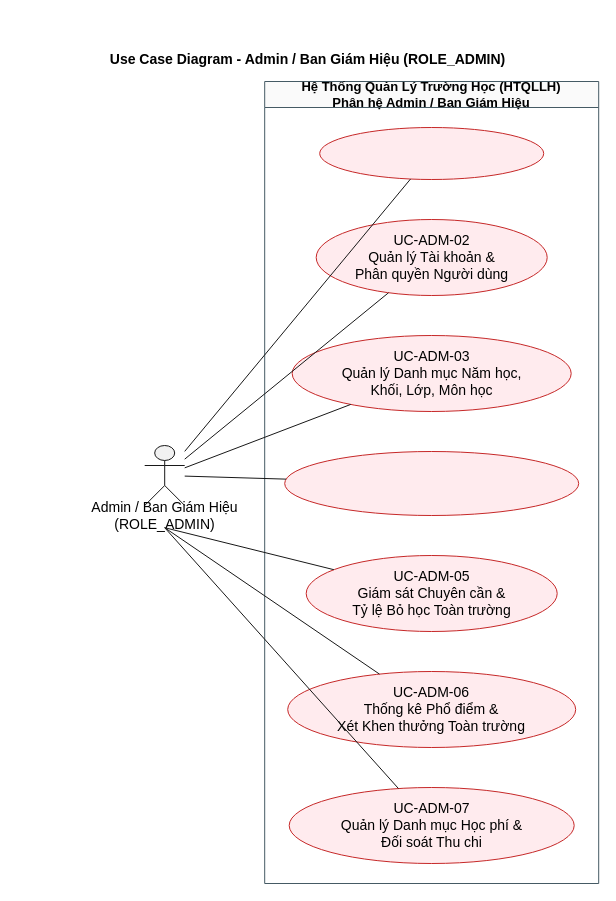
Some shapes in this 616 by 901 pixel diagram are drawn without their labels. The centre of each missing label's shape, as x and y in pixels:
UC-ADM-01 Đăng nhập / Đăng xuất: the point at 431,153
UC-ADM-04 Phê duyệt Mở lại Sổ điểm Đã khóa: the point at 431,483
